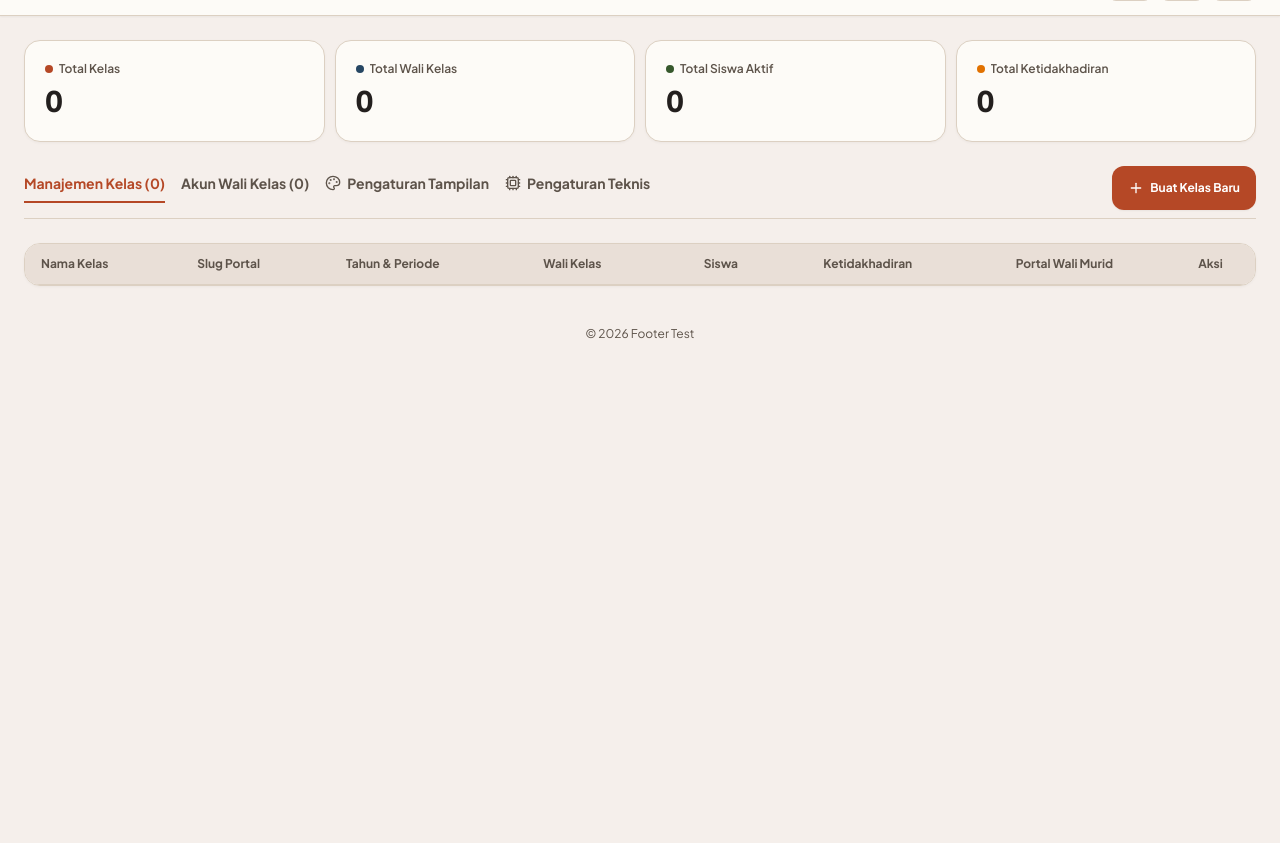
Test: Admin Password UI in Settings Tab › should render Keamanan Akun Admin section in settings tab
The width and height of the screenshot is (1280, 843).
Click the button "Pengaturan Tampilan" at (407, 188), box [325,173,489,203]
(page scrolled)
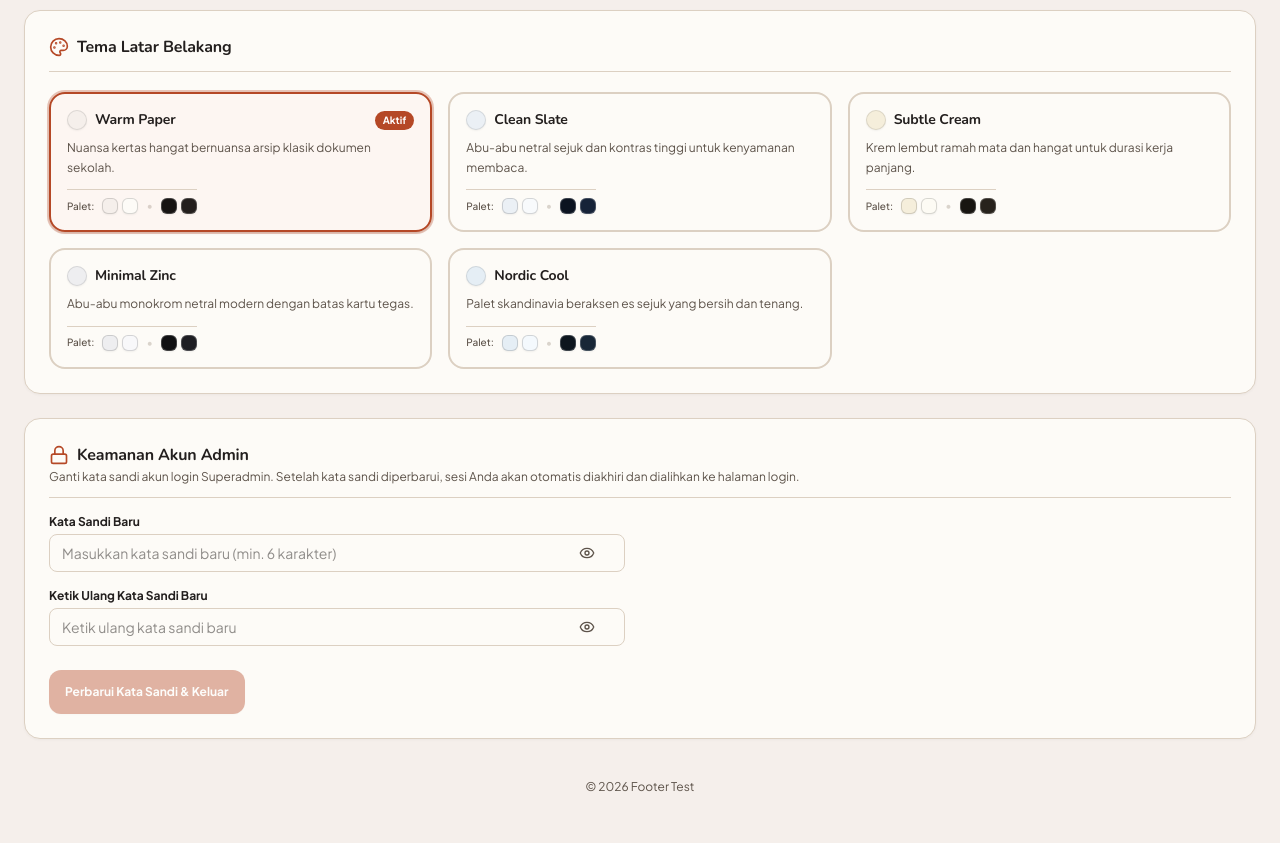
Expected: the text "Keamanan Akun Admin" is shown, [77,442,249,466]
Expected: the password field labelled "Kata Sandi Baru" is shown, [49,534,625,572]
Expected: the password field labelled "Ketik Ulang Kata Sandi Baru" is shown, [49,608,625,646]
